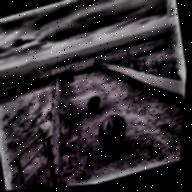boar: (90, 110, 132, 159), (85, 94, 103, 114), (83, 65, 95, 75)
